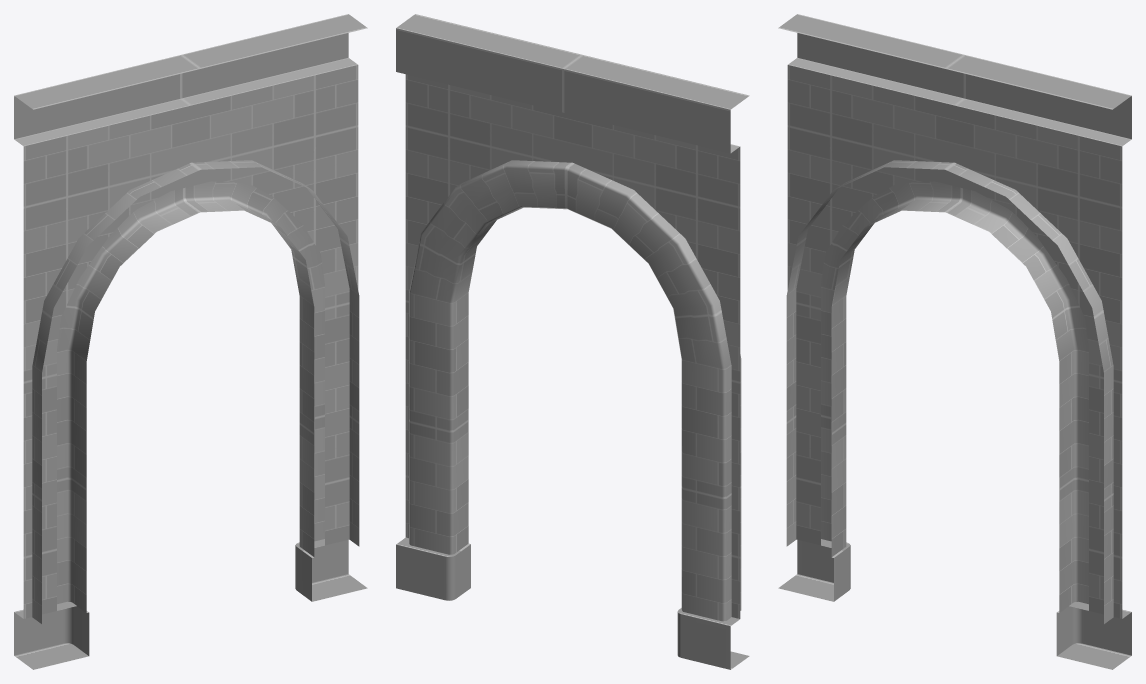
Rendered from proto_wall_door_01.fbx.
3 renders of one model, left to right at view 1: azimuth 30°, elevation 25°; view 2: azimuth 150°, elevation 25°; view 3: azimuth 330°, elevation 25°, orthographic.
Parts seen in each view (by area): view 1: proto_wall_door_01; view 2: proto_wall_door_01; view 3: proto_wall_door_01.
Boxes of the visible parts, box(x1,y1,x2,y2) form: proto_wall_door_01: box(14, 14, 367, 669); proto_wall_door_01: box(396, 14, 749, 669); proto_wall_door_01: box(778, 14, 1131, 669).
Size of the model in its own units: 200 by 320 by 20.
